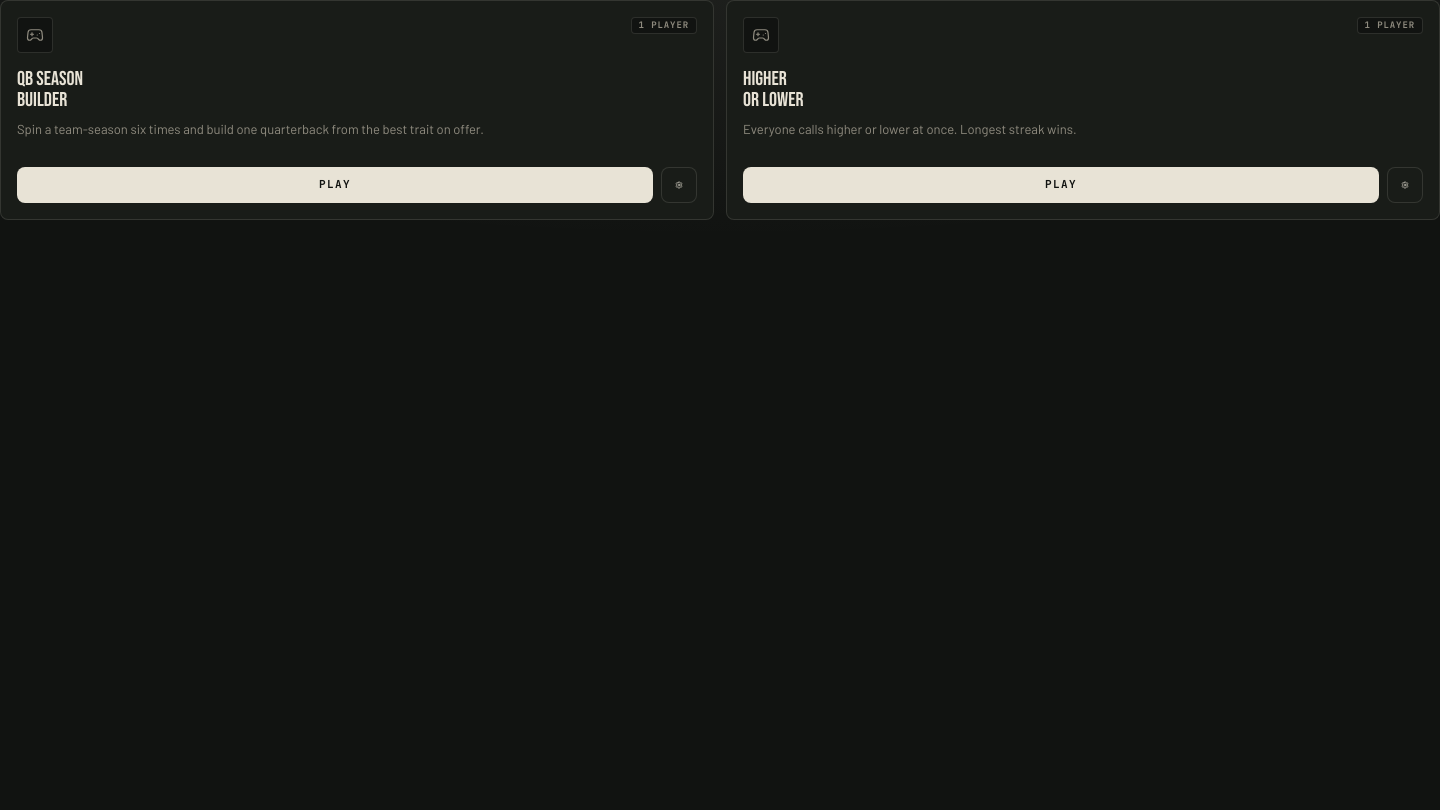
Test case: SoloGrid › still offers Higher or Lower scoring, but no era, when the season bounds could not be read
Click the button named "settings" at (1405, 185), box [1387,167,1423,203]
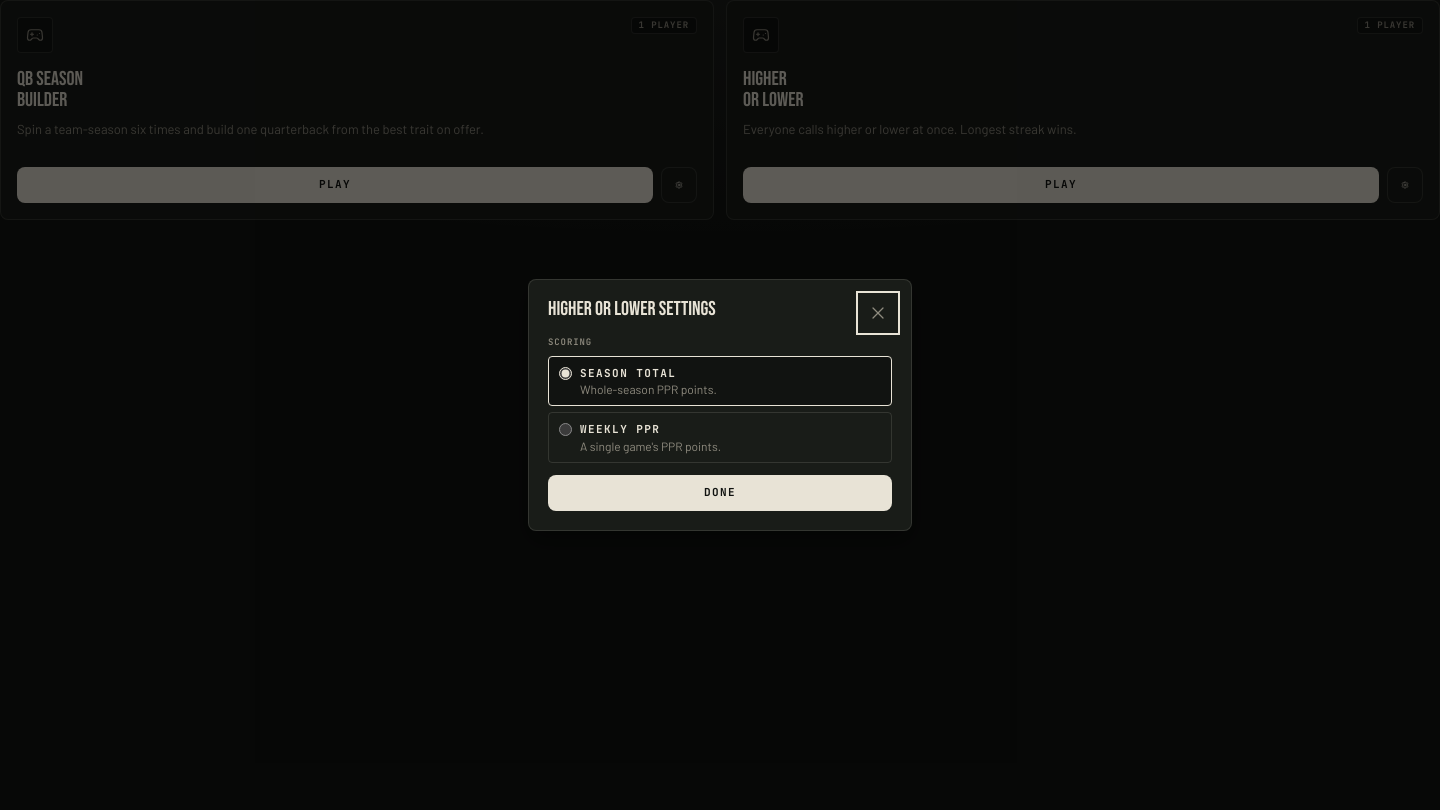
Result: the radio button labelled "Weekly PPR A single game's PPR points." is shown at [559,423,572,436]
